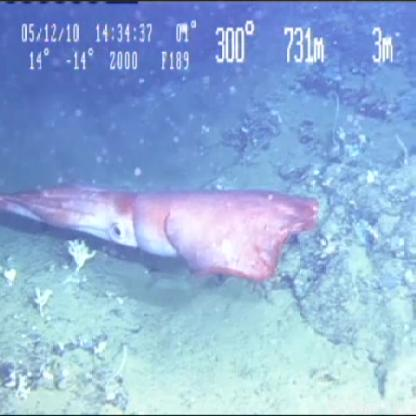Bio: (1, 182, 321, 286), (65, 236, 97, 278), (29, 286, 54, 320)
